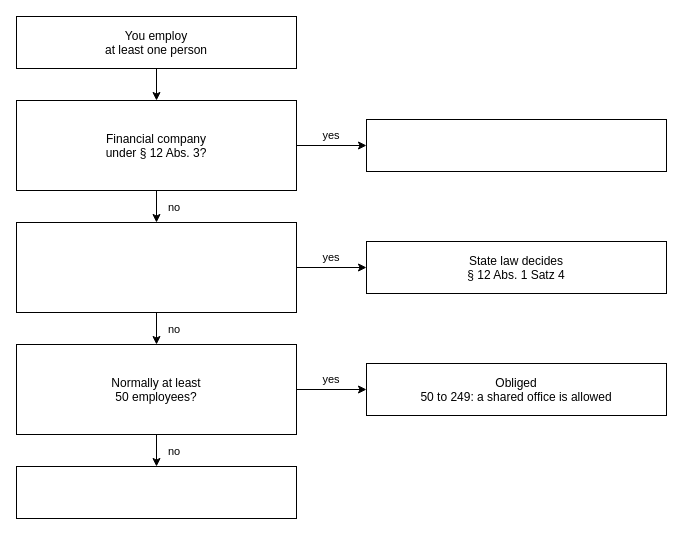
Image size: 683x535. Some labels were removed from this diagram. The box of each missing label's shape, as (x1, y1, x2, y2) in pixels:
Municipality or a company it owns or controls?: (16, 222, 296, 312)
Not obliged voluntary channel allowed: (16, 466, 296, 518)
Obliged whatever the size: (366, 118, 666, 172)
